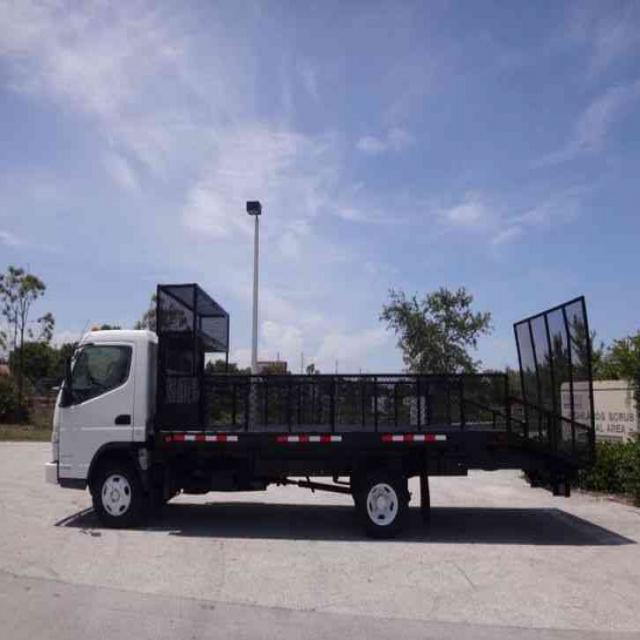truck: (45, 289, 599, 525)
